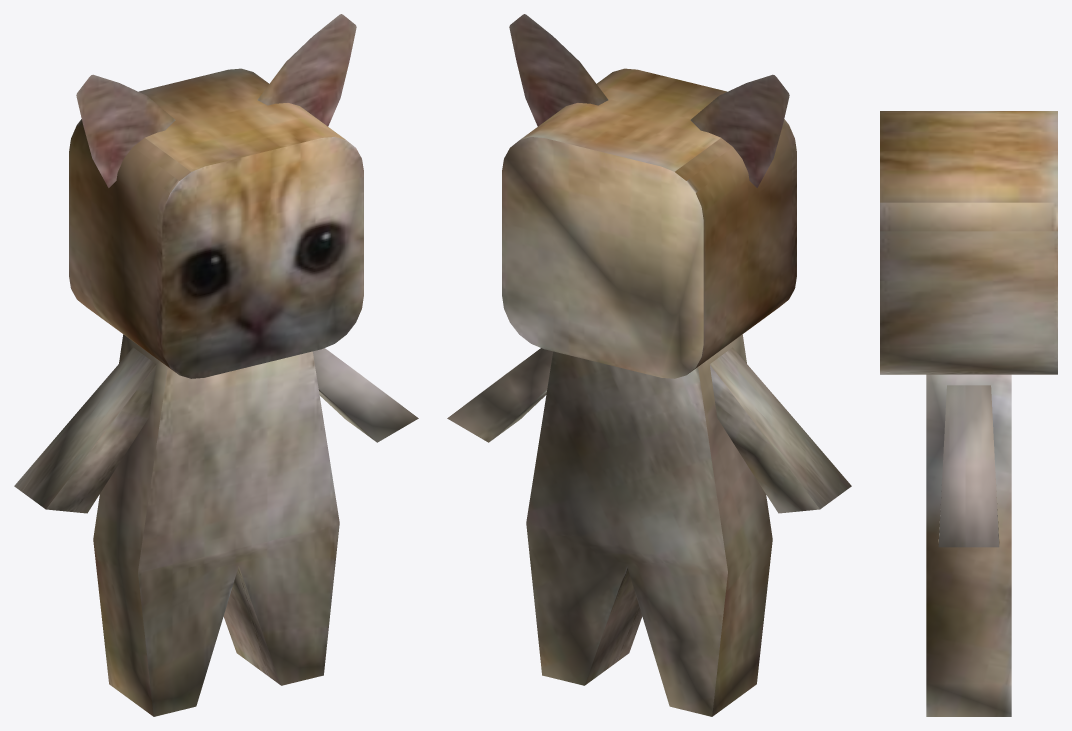
File: miGato.obj
The picture shows the model from 3 angles, left to right: view 1: azimuth 30°, elevation 25°; view 2: azimuth 150°, elevation 25°; view 3: azimuth 270°, elevation 25°; orthographic projection. The views are drawn at different scales.
Parts seen in each view (by area): view 1: Body, head, ear.r, ear.l; view 2: Body, head, ear.r, ear.l; view 3: head, Body.
Part boxes in pixels (box(x1,y1,x2,y2)): Body: box(14, 334, 418, 716); head: box(69, 68, 363, 378); ear.r: box(76, 74, 175, 187); ear.l: box(257, 14, 356, 126); Body: box(447, 334, 851, 716); head: box(502, 68, 796, 378); ear.r: box(690, 74, 789, 187); ear.l: box(509, 14, 608, 126); head: box(880, 111, 1057, 374); Body: box(926, 374, 1011, 716).
Bounding box in the file's own units: 3.7 × 6.02 × 1.6.
1 material, 1 textured.
